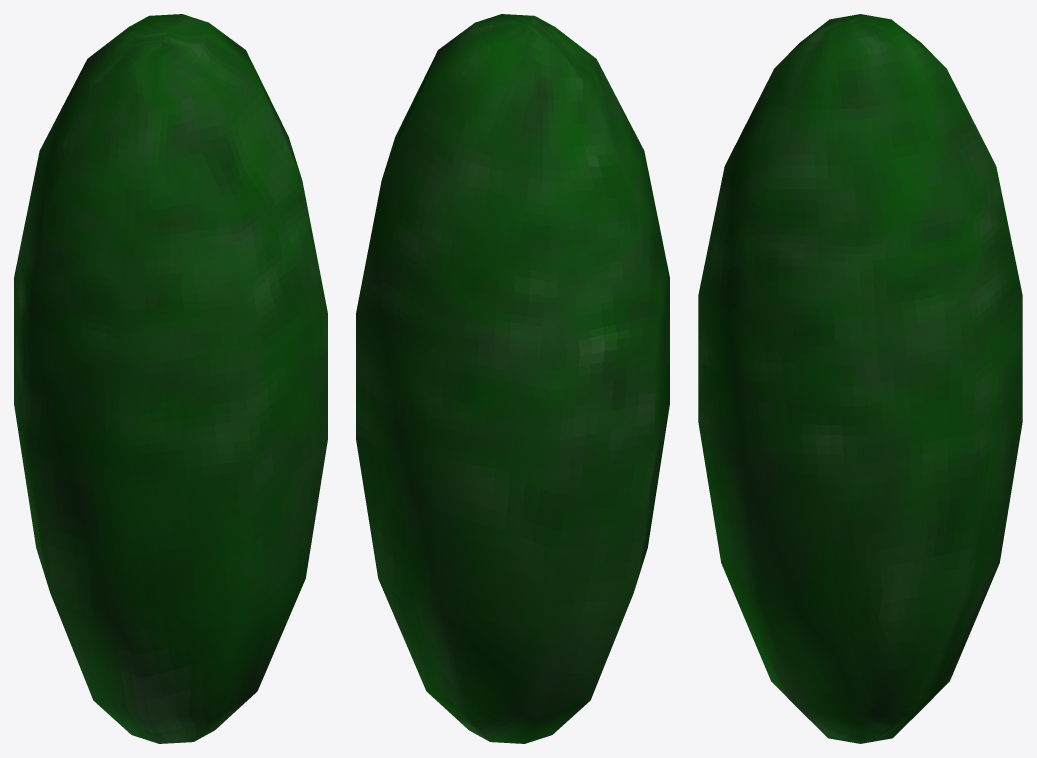
Rendered from treeA.obj.
3 renders of one model, left to right at view 1: azimuth 30°, elevation 25°; view 2: azimuth 150°, elevation 25°; view 3: azimuth 270°, elevation 25°, orthographic.
Visible parts, largest first — view 1: Tree_A_TreeA; view 2: Tree_A_TreeA; view 3: Tree_A_TreeA.
Boxes of the visible parts, x1=… form: Tree_A_TreeA: x1=14, y1=14, x2=327, y2=743; Tree_A_TreeA: x1=356, y1=14, x2=669, y2=743; Tree_A_TreeA: x1=698, y1=14, x2=1022, y2=743.
Size of the model in its own units: 0.5959 by 1.44 by 0.5959.
1 material, 1 textured.
